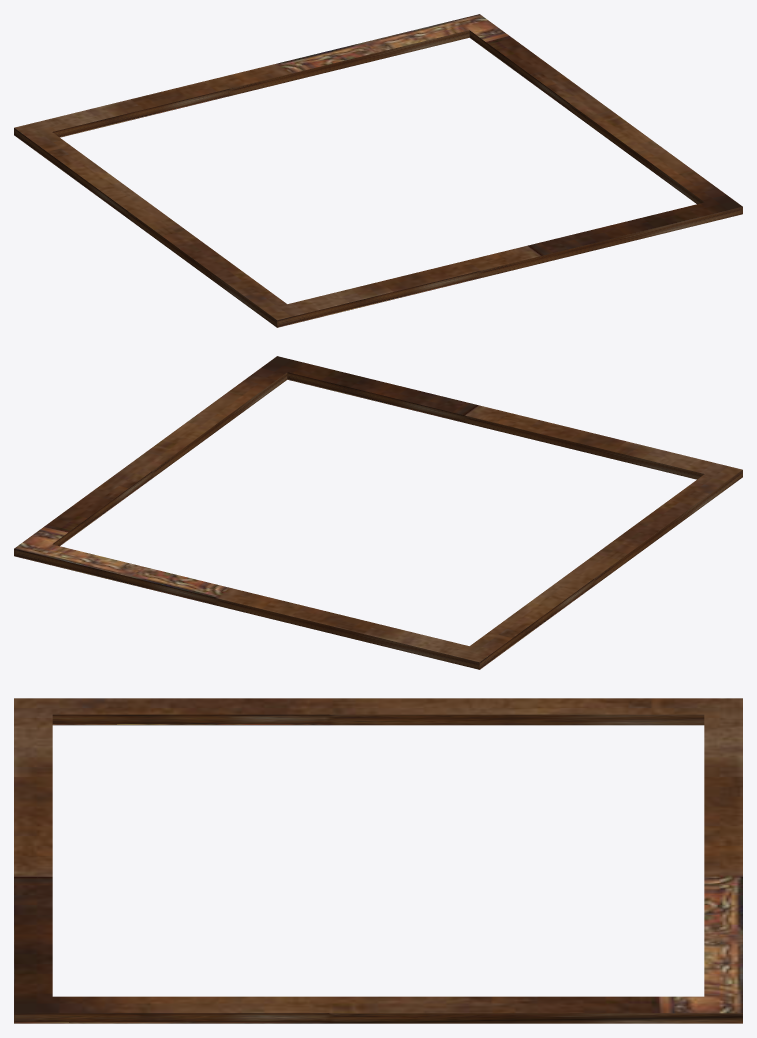
The model's file is angle08.obj.
3 renders of one model, top to bottom at view 1: azimuth 30°, elevation 25°; view 2: azimuth 150°, elevation 25°; view 3: azimuth 270°, elevation 25°, orthographic. The views are drawn at different scales.
Parts seen in each view (by area): view 1: angle08; view 2: angle08; view 3: angle08.
Boxes of the visible parts, left/top/right/bottom form: angle08: left=14, top=14, right=742, bottom=327; angle08: left=14, top=356, right=742, bottom=669; angle08: left=14, top=698, right=742, bottom=1023.
Bounding box in the file's own units: 305 × 4.72 × 299.
